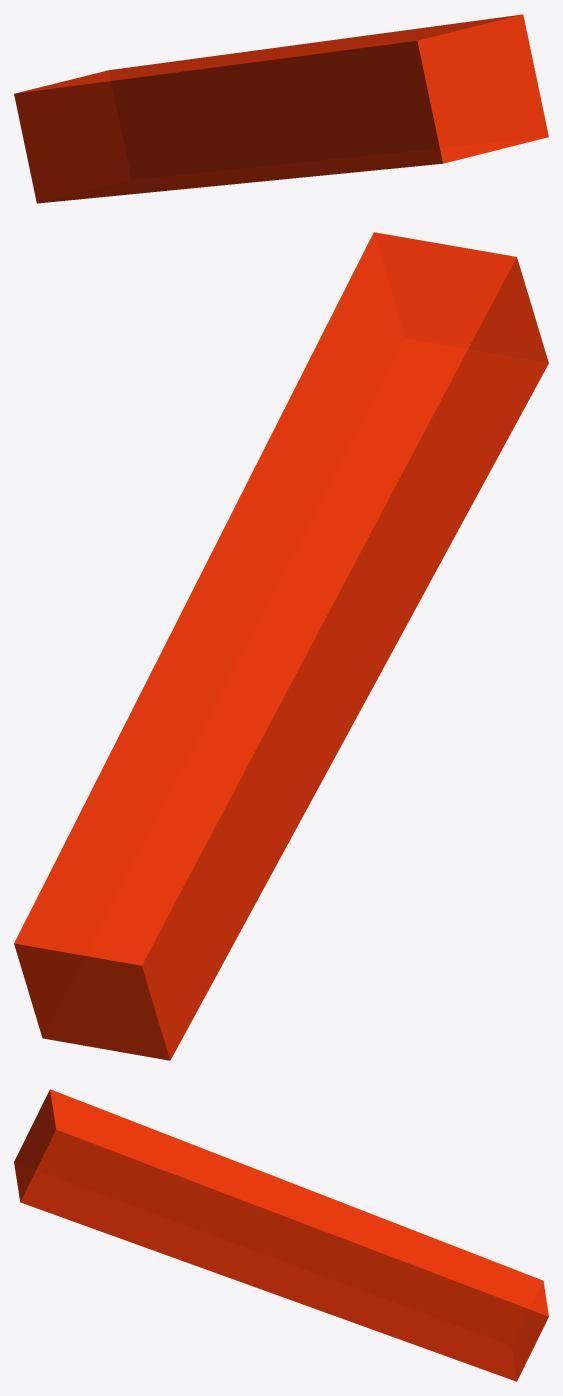
The model's file is Event_420604493_EBrechit_13.fbx.
The picture shows the model from 3 angles, top to bottom: view 1: azimuth 30°, elevation 25°; view 2: azimuth 150°, elevation 25°; view 3: azimuth 270°, elevation 25°; orthographic projection. The views are drawn at different scales.
Visible parts, largest first — view 1: Model; view 2: Model; view 3: Model.
Part boxes in pixels (x1,y1,x2,y2): Model: (14,14,548,203); Model: (14,232,548,1060); Model: (14,1089,548,1381).
Bounding box in the file's own units: 0.092 × 0.2147 × 0.3765.
